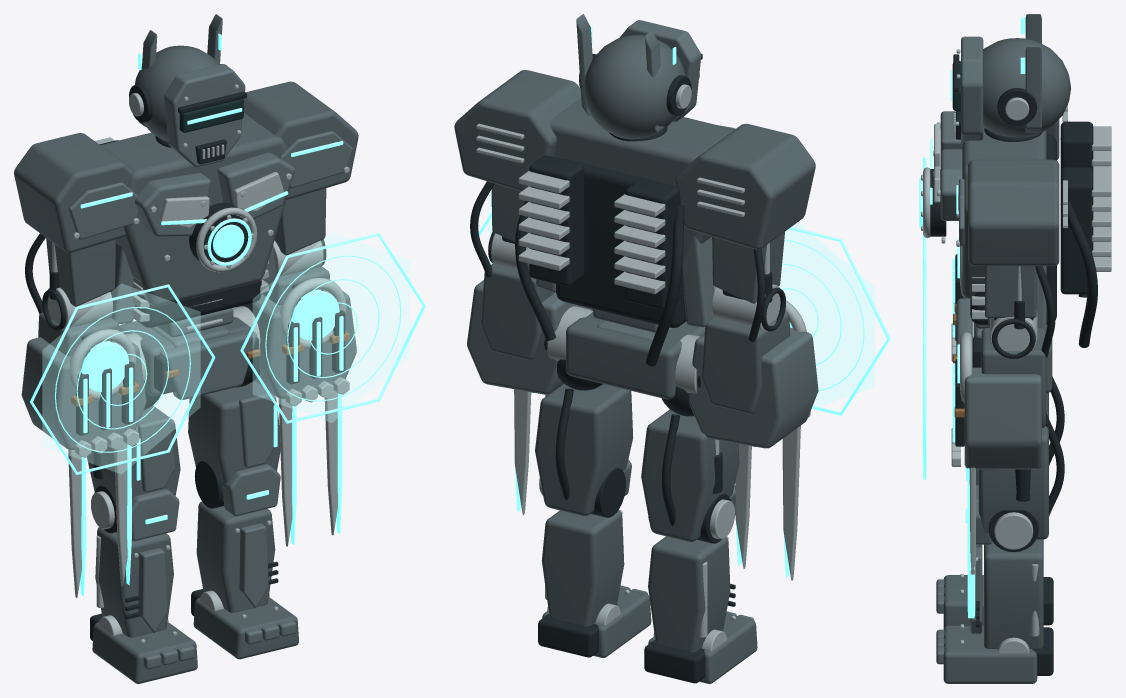
Rendered from echo-frame.glb.
The picture shows the model from 3 angles, left to right: view 1: azimuth 30°, elevation 25°; view 2: azimuth 150°, elevation 25°; view 3: azimuth 270°, elevation 25°; orthographic projection. The views are drawn at different scales.
Visible parts, largest first — view 1: body_mesh, weapon_paper_L_mesh, weapon_paper_R_mesh, leg_R_mesh, leg_L_mesh, arm_L_mesh, arm_R_mesh, head_mesh, weapon_rock_L_mesh, weapon_rock_R_mesh, weapon_scissors_R_mesh, weapon_scissors_L_mesh; view 2: body_mesh, leg_R_mesh, arm_L_mesh, leg_L_mesh, arm_R_mesh, weapon_paper_L_mesh, head_mesh, weapon_rock_L_mesh, weapon_rock_R_mesh, weapon_scissors_L_mesh, weapon_scissors_R_mesh; view 3: leg_R_mesh, body_mesh, arm_R_mesh, head_mesh, weapon_rock_R_mesh, leg_L_mesh, weapon_paper_R_mesh, weapon_scissors_R_mesh, weapon_rock_L_mesh, weapon_paper_L_mesh.
Part boxes in pixels (<box>): body_mesh: <box>95,113,294,399</box>; weapon_paper_L_mesh: <box>30,283,215,474</box>; weapon_paper_R_mesh: <box>240,232,425,423</box>; leg_R_mesh: <box>188,367,298,659</box>; leg_L_mesh: <box>87,380,197,683</box>; arm_L_mesh: <box>14,133,139,356</box>; arm_R_mesh: <box>244,81,358,304</box>; head_mesh: <box>129,14,246,166</box>; weapon_rock_L_mesh: <box>21,337,146,457</box>; weapon_rock_R_mesh: <box>236,290,356,406</box>; weapon_scissors_R_mesh: <box>278,330,349,546</box>; weapon_scissors_L_mesh: <box>68,382,139,597</box>; body_mesh: <box>515,98,735,399</box>; leg_R_mesh: <box>535,359,651,657</box>; arm_L_mesh: <box>675,123,815,446</box>; leg_L_mesh: <box>641,386,757,683</box>; arm_R_mesh: <box>454,70,581,392</box>; weapon_paper_L_mesh: <box>779,222,890,415</box>; head_mesh: <box>576,14,702,141</box>; weapon_rock_L_mesh: <box>688,327,818,448</box>; weapon_rock_R_mesh: <box>467,280,592,394</box>; weapon_scissors_L_mesh: <box>735,425,800,580</box>; weapon_scissors_R_mesh: <box>514,389,531,515</box>; leg_R_mesh: <box>936,410,1064,683</box>; body_mesh: <box>919,111,1111,393</box>; arm_R_mesh: <box>956,159,1067,470</box>; head_mesh: <box>950,14,1070,144</box>; weapon_rock_R_mesh: <box>951,359,1041,469</box>; leg_L_mesh: <box>936,376,1064,628</box>; weapon_paper_R_mesh: <box>923,262,972,479</box>; weapon_scissors_R_mesh: <box>954,407,975,618</box>; weapon_rock_L_mesh: <box>951,254,965,361</box>; weapon_paper_L_mesh: <box>923,157,964,298</box>.
Size of the model in its own units: 1.99 by 2.92 by 0.8205.
